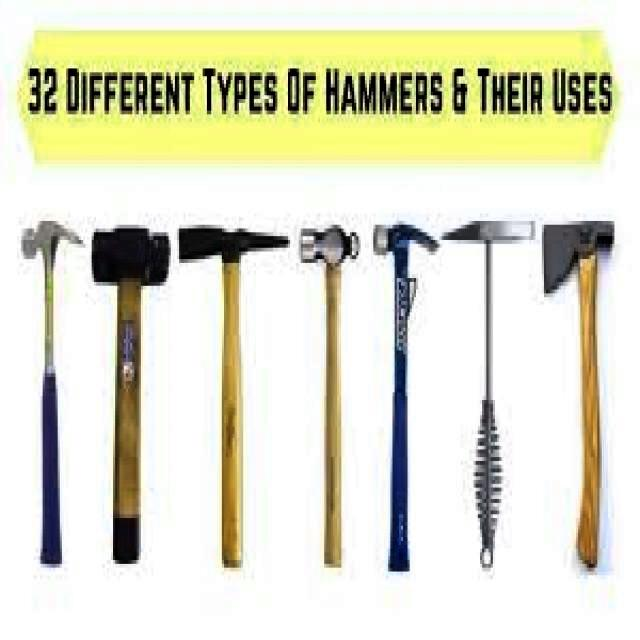hammer: (177, 213, 292, 568), (444, 190, 540, 576), (81, 204, 173, 574), (543, 212, 626, 570), (3, 200, 82, 574), (371, 213, 442, 587), (296, 204, 366, 574)
